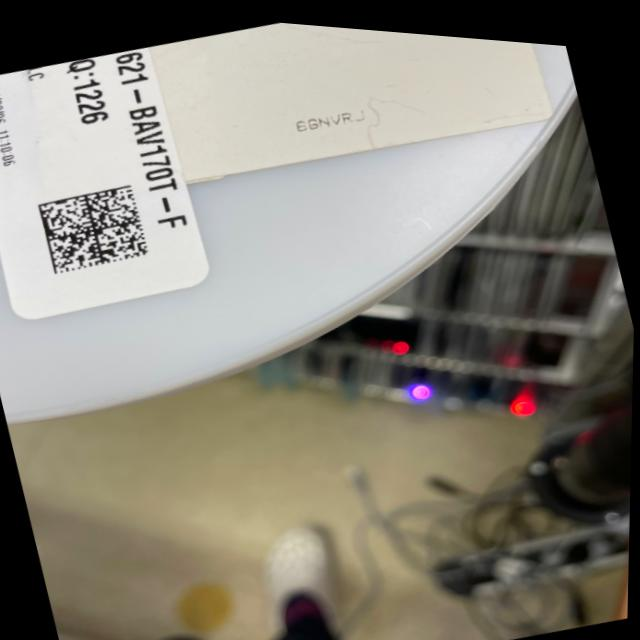datamatrix: (35, 174, 155, 282)
